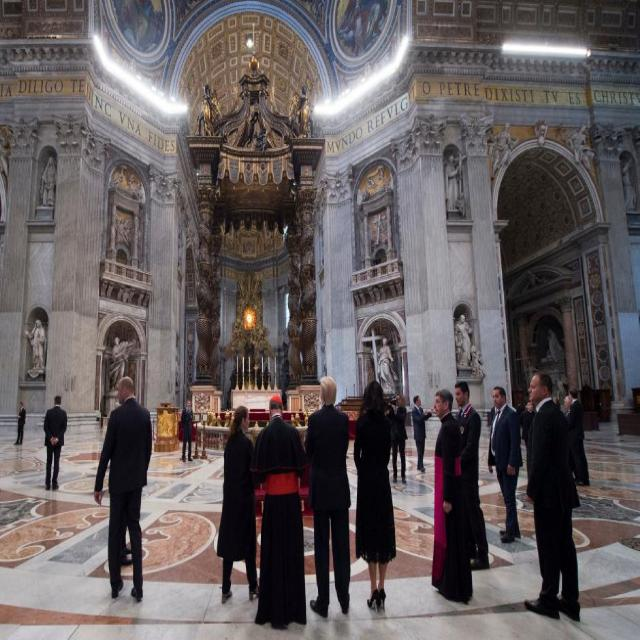body: (522, 363, 586, 627), (92, 370, 154, 605), (301, 372, 355, 620), (252, 394, 307, 628), (429, 386, 475, 604), (214, 403, 262, 605), (352, 378, 393, 612), (192, 79, 314, 151), (486, 381, 526, 544), (454, 380, 488, 570), (106, 168, 146, 260), (334, 0, 389, 57), (42, 392, 70, 492), (116, 0, 164, 53), (567, 386, 590, 488), (454, 310, 486, 380), (485, 118, 519, 180), (411, 391, 436, 474), (539, 324, 565, 401), (565, 110, 598, 169), (388, 392, 408, 486), (108, 331, 136, 393), (441, 144, 464, 213), (372, 335, 399, 393), (23, 316, 48, 377), (520, 398, 536, 482), (620, 157, 640, 215), (36, 152, 57, 206), (180, 397, 194, 463), (15, 401, 27, 446), (118, 540, 132, 567), (562, 395, 572, 419)
